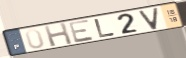0: (25, 28, 46, 50)
2: (118, 12, 143, 36)
E: (67, 18, 97, 44)
H: (43, 21, 75, 48)
L: (92, 18, 117, 39)
V: (137, 6, 160, 31)
